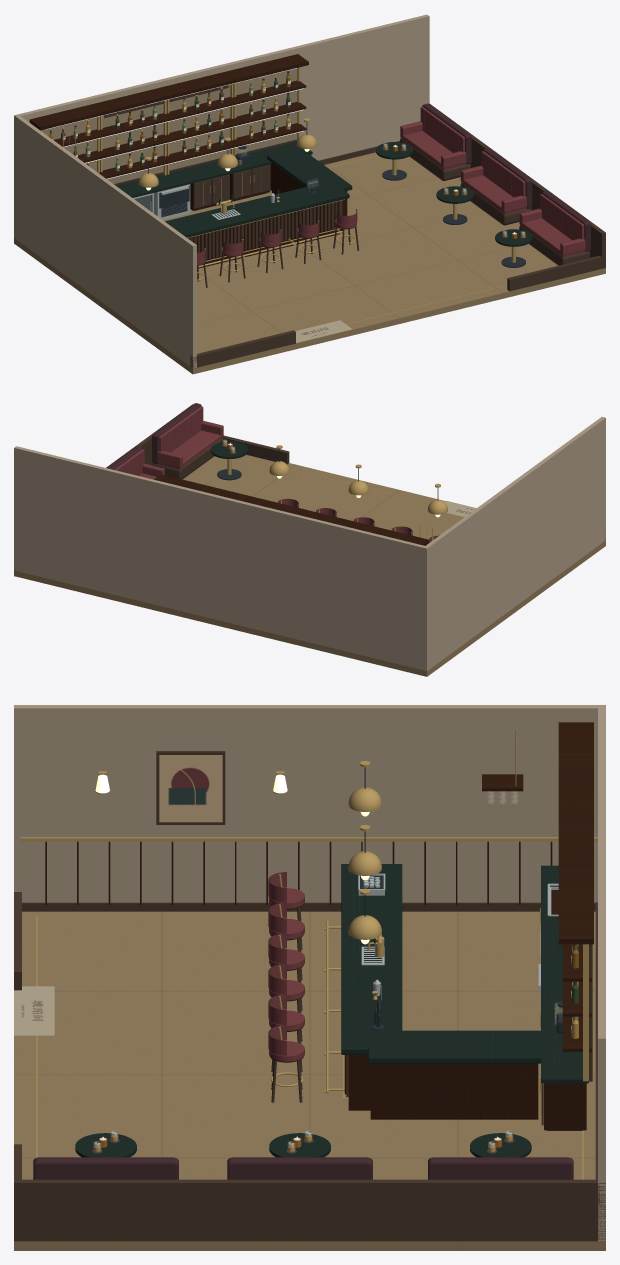
File: bar.glb
3 renders of one model, top to bottom at view 1: azimuth 30°, elevation 25°; view 2: azimuth 150°, elevation 25°; view 3: azimuth 270°, elevation 25°, orthographic. The views are drawn at different scales.
Parts seen in each view (by area): view 1: FloorSlab_1, LeftWall_7, RearWall_6, BackbarCornice_346, StoneFrontTop_484, BronzeMirror_49, CounterFront_486, BronzeMirror_46, WorktopRight_382, FloatingShelf_248, BronzeMirror_43, FloatingShelf_150 (+24 smaller); view 2: RearWall_6, LeftWall_7, FloorSlab_1, BackbarCornice_346, SeatCushion_725, FrontCutawayWall_10, BenchBase_724, HighBackBase_726, RoundStoneTop_746, RightCutawayWall_8; view 3: FloorSlab_1, LeftWall_7, RightCutawayWall_8, StoneFrontTop_484, ReturnCarcass_483, BackbarCornice_346, StoneReturnTop_485, OriginalAbstractArt_874, RearWall_6, LeftSkirting_12, WorktopRight_382, HighBackBase_646 (+14 smaller).
Boxes of the visible parts, x1,y1,x2,y2 form: FloorSlab_1: (14,152,605,374); LeftWall_7: (14,116,196,368); RearWall_6: (14,14,429,238); BackbarCornice_346: (29,54,308,130); StoneFrontTop_484: (165,187,349,237); BronzeMirror_49: (236,68,297,153); CounterFront_486: (187,200,342,259); BronzeMirror_46: (169,84,230,170); WorktopRight_382: (116,141,312,197); FloatingShelf_248: (53,80,306,146); BronzeMirror_43: (102,104,163,183); FloatingShelf_150: (77,102,306,162); RearWall_6: (14,446,429,670); LeftWall_7: (423,417,605,670); FloorSlab_1: (14,455,605,676); BackbarCornice_346: (154,474,429,545); SeatCushion_725: (158,430,223,469); FrontCutawayWall_10: (223,435,289,464); BenchBase_724: (153,438,223,479); HighBackBase_726: (152,403,201,464); RoundStoneTop_746: (210,441,247,458); RightCutawayWall_8: (14,404,192,570); FloorSlab_1: (14,911,605,1250); LeftWall_7: (14,705,605,902); RightCutawayWall_8: (14,1179,605,1241); StoneFrontTop_484: (341,864,402,1054); ReturnCarcass_483: (370,1063,538,1119); BackbarCornice_346: (558,722,593,944); StoneReturnTop_485: (368,1030,541,1063); OriginalAbstractArt_874: (159,755,222,822); RearWall_6: (598,705,605,1241); LeftSkirting_12: (22,902,595,911); WorktopRight_382: (541,915,588,1083); HighBackBase_646: (428,1157,573,1179).
Bounding box in the file's own units: 12 × 3.56 × 9.
Materials: 30 (8 with a texture image).
